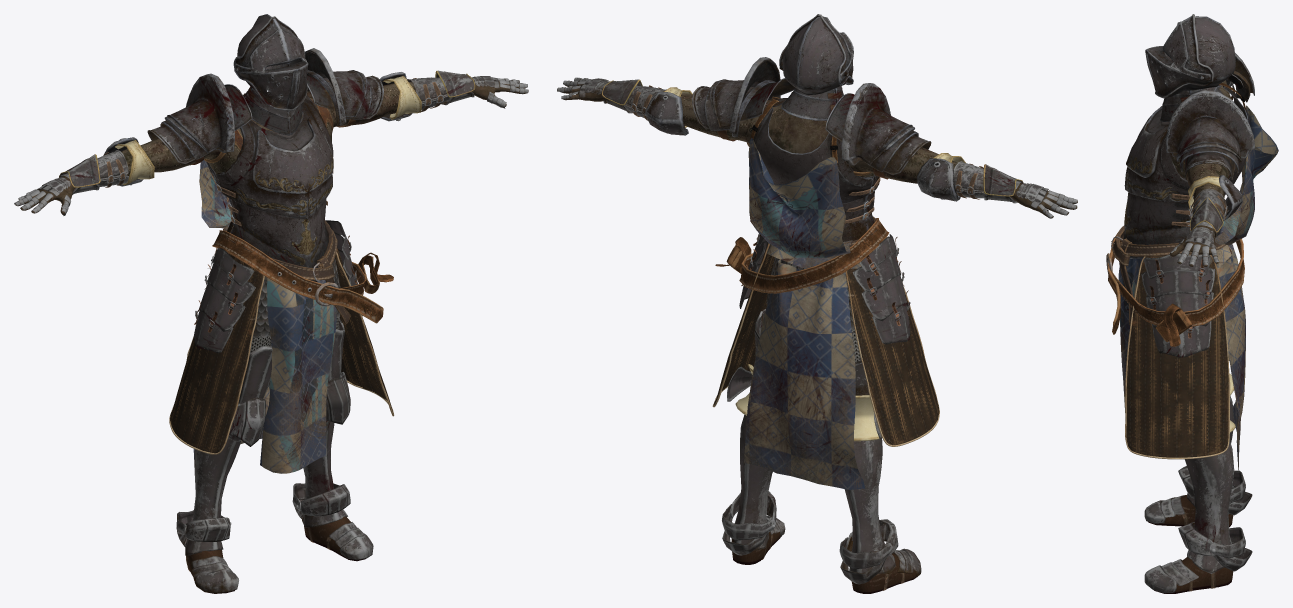
File: knight.fbx
3 renders of one model, left to right at view 1: azimuth 30°, elevation 25°; view 2: azimuth 150°, elevation 25°; view 3: azimuth 270°, elevation 25°, orthographic. The views are drawn at different scales.
Visible parts, largest first — view 1: shengqishi2; view 2: shengqishi2; view 3: shengqishi2.
Part boxes in pixels (box(x1,y1,x2,y2)): shengqishi2: box(14, 14, 528, 593); shengqishi2: box(557, 14, 1077, 593); shengqishi2: box(1106, 14, 1278, 593).
Bounding box in the file's own units: 17612 × 18088 × 5244.
4 materials, 4 textured.
